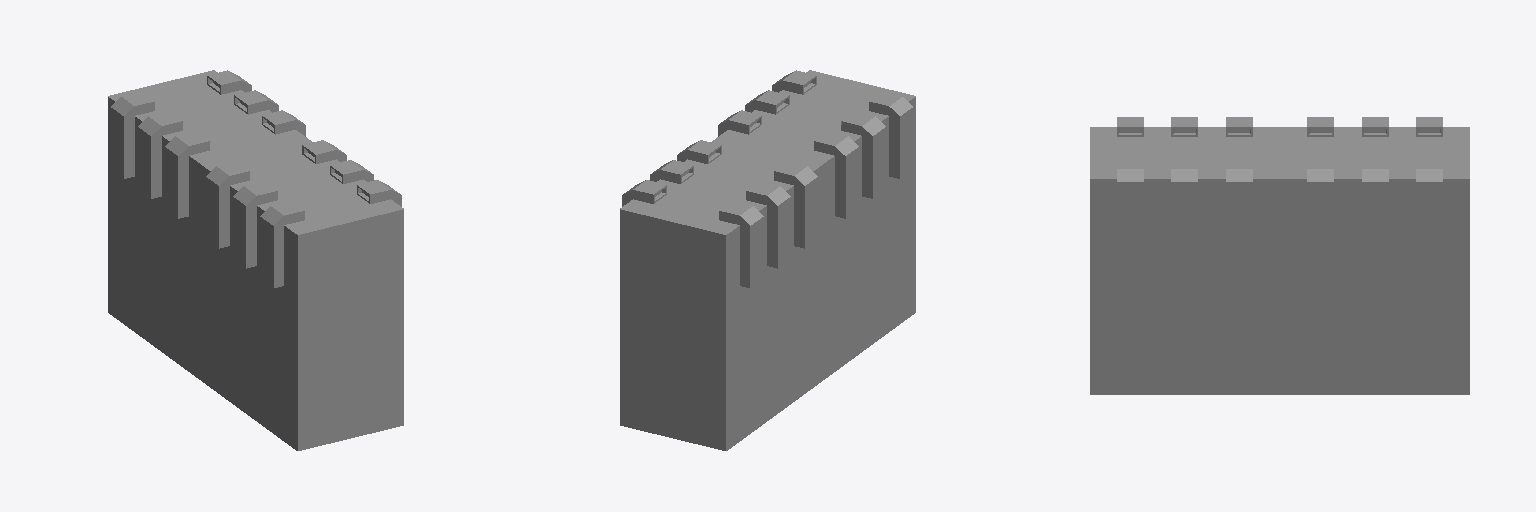
Rendered from wall.obj.
3 views of the same model, side by side, from view 1: azimuth 30°, elevation 25°; view 2: azimuth 150°, elevation 25°; view 3: azimuth 270°, elevation 25° (orthographic).
Visible parts, largest first — view 1: Wall_Cube.003; view 2: Wall_Cube.003; view 3: Wall_Cube.003.
Boxes of the visible parts, x1,y1,x2,y2 form: Wall_Cube.003: [108, 70, 403, 450]; Wall_Cube.003: [620, 70, 915, 450]; Wall_Cube.003: [1090, 117, 1469, 394].
Size of the model in its own units: 61.65 by 104 by 159.